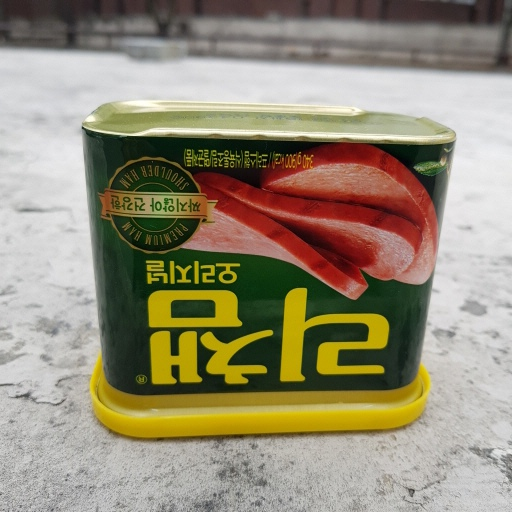Metal_2: (73, 94, 455, 439)
